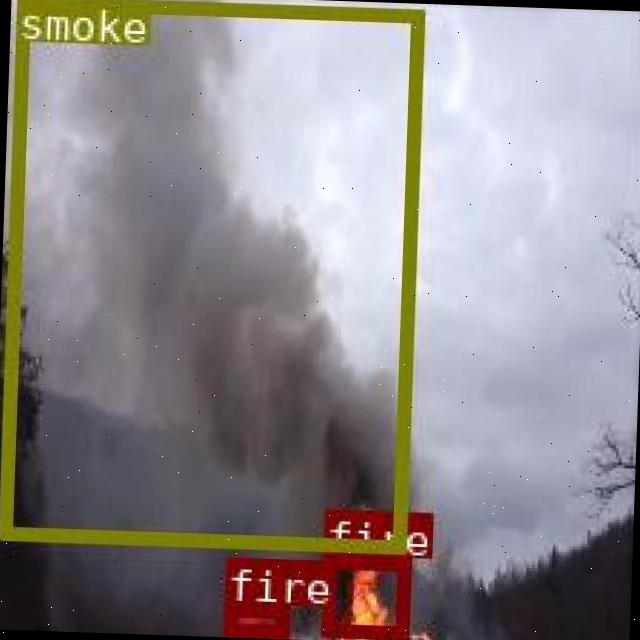fire: (319, 552, 409, 636), (222, 601, 285, 633)
smoke: (0, 0, 421, 551)
